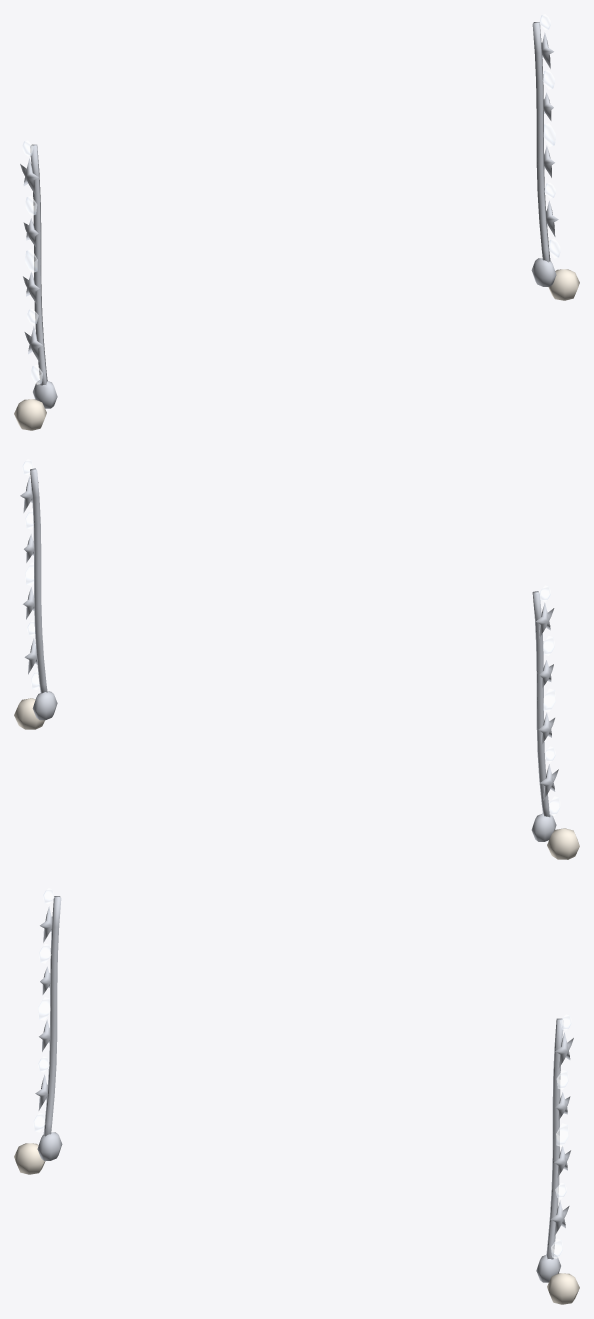
File: ear_climbers.glb
3 renders of one model, top to bottom at view 1: azimuth 30°, elevation 25°; view 2: azimuth 150°, elevation 25°; view 3: azimuth 330°, elevation 25°, orthographic.
Parts seen in each view (by area): view 1: ear_climbers; view 2: ear_climbers; view 3: ear_climbers.
Part boxes in pixels (left/top/right/bottom): ear_climbers: left=14, top=14, right=579, bottom=430; ear_climbers: left=14, top=459, right=579, bottom=859; ear_climbers: left=14, top=888, right=579, bottom=1304.
Bounding box in the file's own units: 0.232 × 0.1106 × 0.0196.
